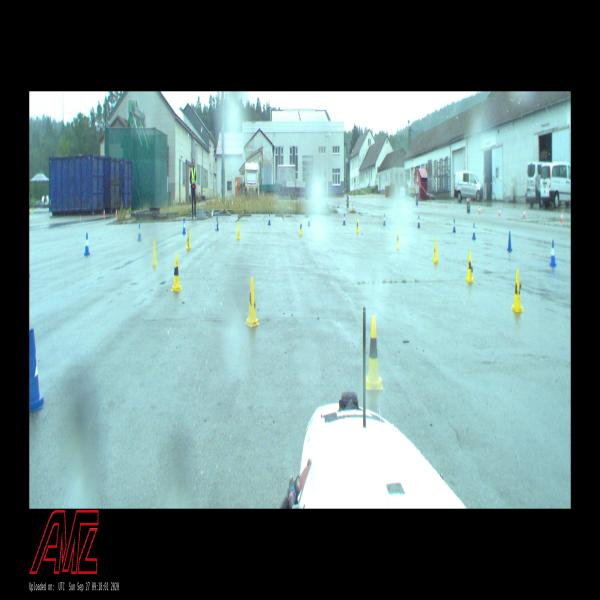blue_cone: (29, 329, 44, 411), (550, 240, 556, 266), (84, 232, 90, 256), (136, 223, 142, 241), (507, 231, 512, 250), (472, 222, 476, 240), (182, 219, 186, 235), (215, 216, 219, 231), (307, 213, 311, 227), (452, 219, 456, 232), (417, 215, 421, 228), (383, 213, 386, 226), (268, 213, 271, 225), (343, 213, 346, 225)
orange_cone: (560, 212, 564, 222), (478, 205, 481, 215), (499, 206, 501, 216), (524, 209, 526, 218)
yellow_cone: (364, 317, 383, 390), (244, 276, 260, 327), (510, 270, 524, 312), (171, 254, 182, 292), (466, 250, 475, 282), (151, 239, 158, 265), (432, 239, 439, 262), (186, 228, 192, 250), (395, 227, 400, 248), (236, 222, 240, 240), (299, 218, 303, 235), (356, 218, 359, 232)
